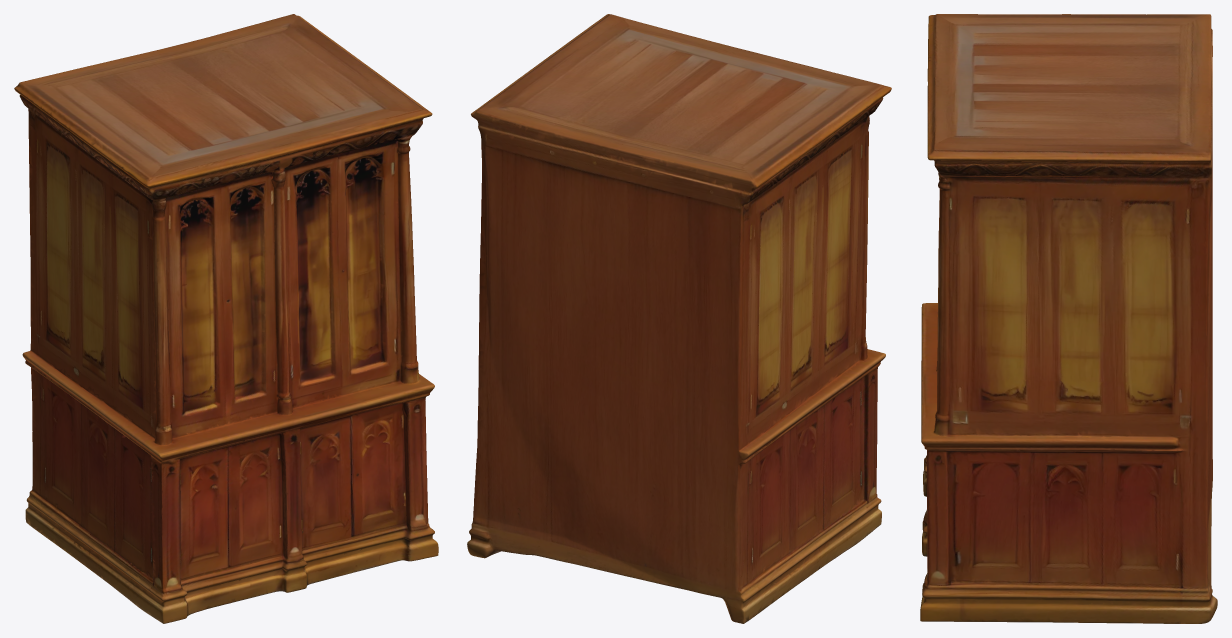
Rendered from m-bookcase-stylized.glb.
3 views of the same model, side by side, from view 1: azimuth 30°, elevation 25°; view 2: azimuth 150°, elevation 25°; view 3: azimuth 270°, elevation 25° (orthographic). The views are drawn at different scales.
Visible parts, largest first — view 1: tripo_node_bf77344a-cfbe-4994-a1b1-c3f0ebbb239a; view 2: tripo_node_bf77344a-cfbe-4994-a1b1-c3f0ebbb239a; view 3: tripo_node_bf77344a-cfbe-4994-a1b1-c3f0ebbb239a.
Part boxes in pixels (x1,y1,x2,y2): tripo_node_bf77344a-cfbe-4994-a1b1-c3f0ebbb239a: (14, 14, 438, 623); tripo_node_bf77344a-cfbe-4994-a1b1-c3f0ebbb239a: (467, 14, 891, 623); tripo_node_bf77344a-cfbe-4994-a1b1-c3f0ebbb239a: (920, 14, 1217, 623).
Bounding box in the file's own units: 1.52 × 2.26 × 1.29.
Materials: 1 (1 with a texture image).
